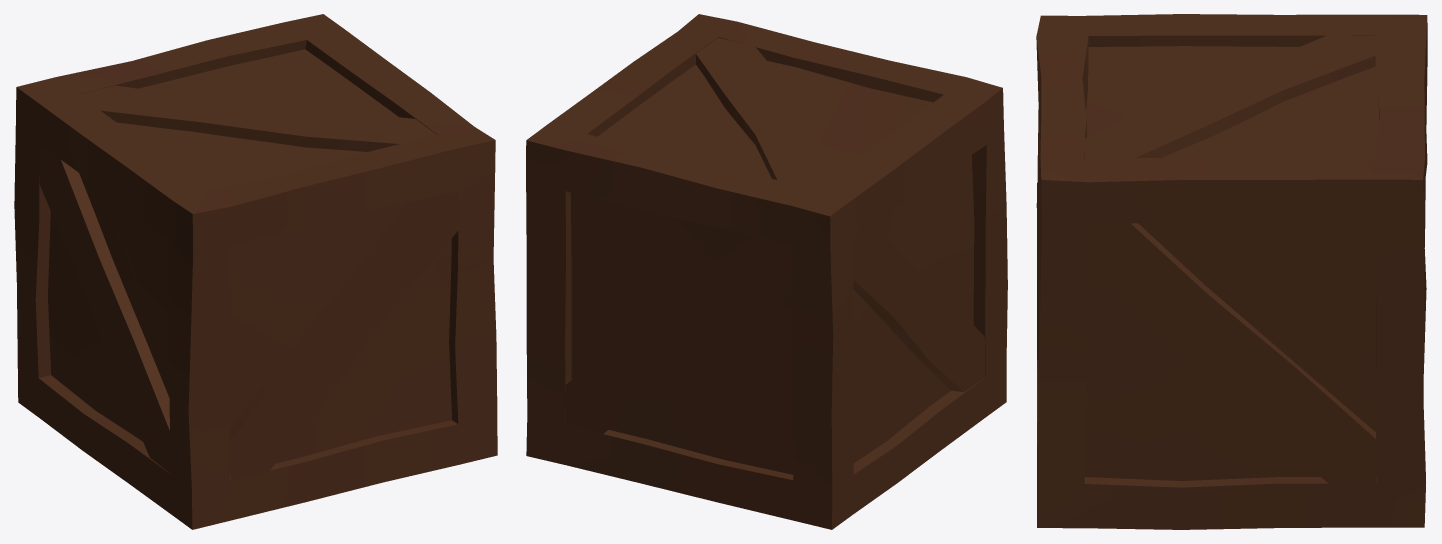
Rendered from crate_1.fbx.
3 renders of one model, left to right at view 1: azimuth 30°, elevation 25°; view 2: azimuth 150°, elevation 25°; view 3: azimuth 270°, elevation 25°, orthographic. The views are drawn at different scales.
Parts seen in each view (by area): view 1: Cube.009; view 2: Cube.009; view 3: Cube.009.
Part boxes in pixels (<box>): Cube.009: <box>14,14,497,529</box>; Cube.009: <box>526,14,1007,529</box>; Cube.009: <box>1036,14,1427,529</box>.
Size of the model in its own units: 228 by 225 by 227.
